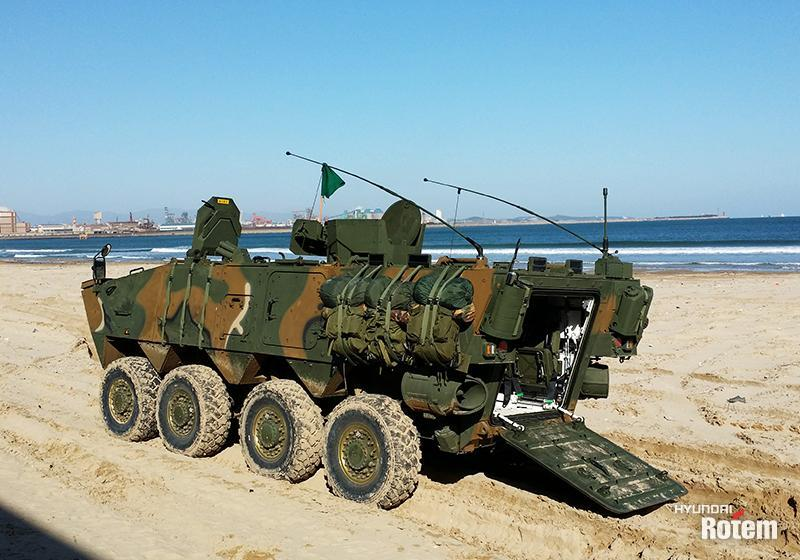MIL_IFV: (79, 169, 686, 522)
